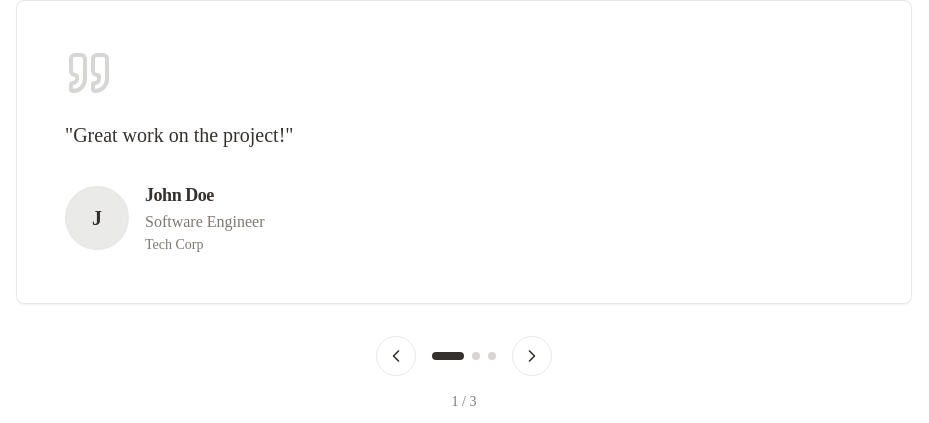
Test case: TestimonialsCarousel › should navigate to previous testimonial when previous button is clicked
The width and height of the screenshot is (929, 423).
First go to next
What coordinates should you click on to do the following:
click the button named "Next testimonial"
I would click on:
 (532, 356)
Its box is [512,336,552,376].
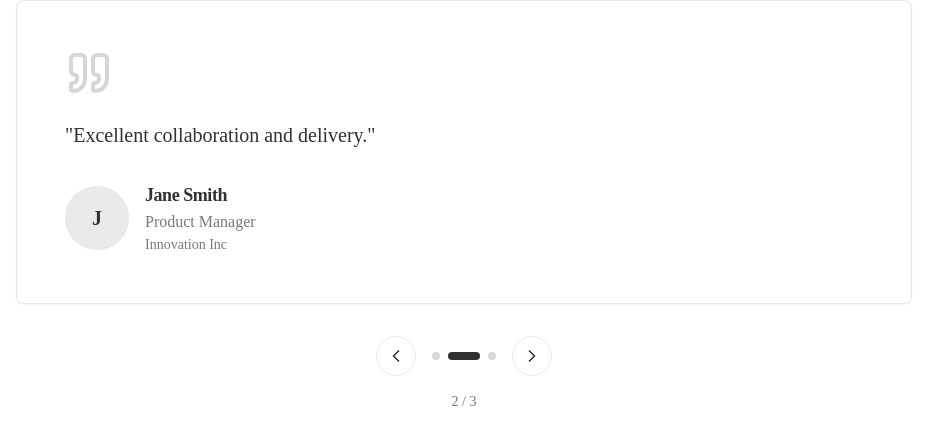
Then go back to previous
What coordinates should you click on to do the following:
click the button named "Previous testimonial"
I would click on:
 (396, 356)
Its box is [376,336,416,376].
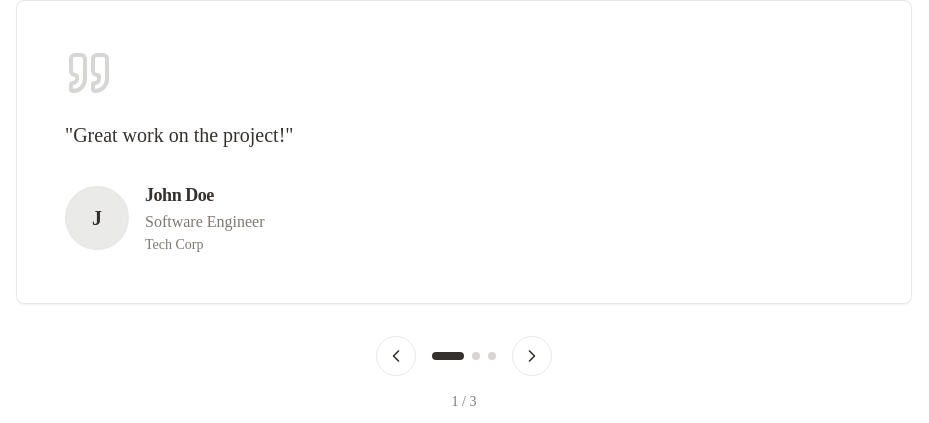
Expected: the heading "John Doe" is shown, [145,181,214,209]
